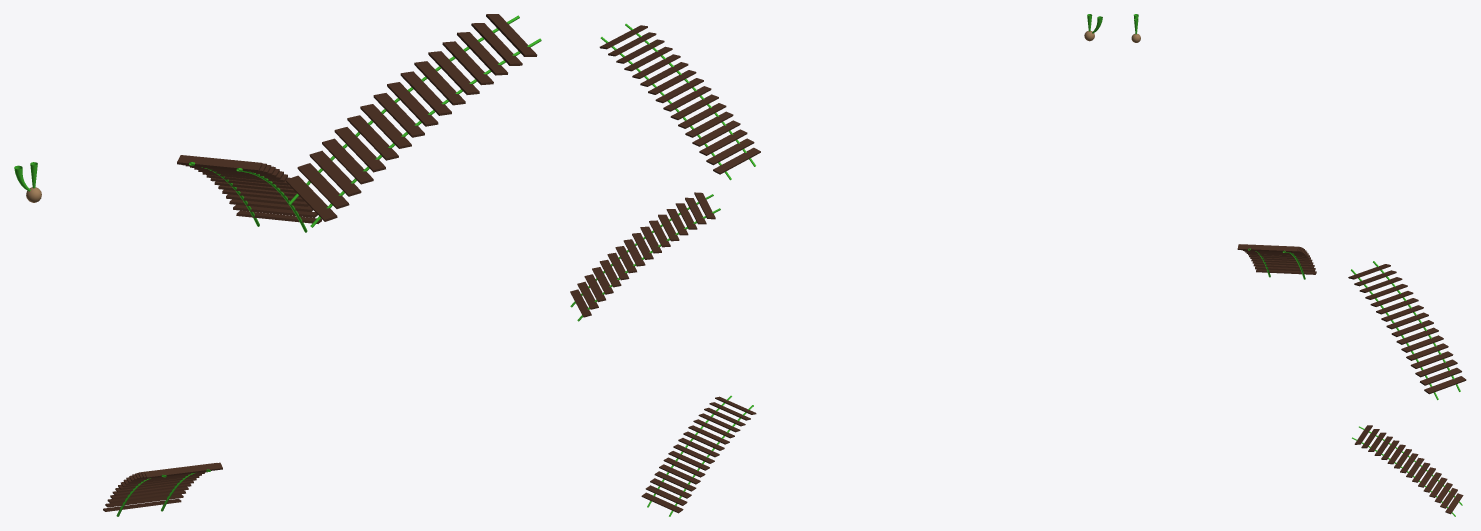
Rendered from LooseObjects.fbx.
The picture shows the model from 3 angles, left to right: view 1: azimuth 30°, elevation 25°; view 2: azimuth 150°, elevation 25°; view 3: azimuth 270°, elevation 25°; orthographic projection. The views are drawn at different scales.
Parts seen in each view (by area): view 1: Bridge_LP006, Bridge_LP005, Bridge_LP010; view 2: Bridge_LP006, Bridge_LP005, Bridge_LP010; view 3: Bridge_LP005, Bridge_LP010, Bridge_LP006.
Part boxes in pixels (x1,y1,x2,y2): Bridge_LP006: [285, 14, 541, 227]; Bridge_LP005: [177, 155, 321, 232]; Bridge_LP010: [103, 462, 222, 516]; Bridge_LP006: [599, 23, 760, 180]; Bridge_LP005: [570, 192, 720, 321]; Bridge_LP010: [641, 395, 756, 516]; Bridge_LP005: [1348, 261, 1466, 400]; Bridge_LP010: [1352, 425, 1463, 516]; Bridge_LP006: [1237, 244, 1316, 279].
Size of the model in its own units: 2643 by 2043 by 2571.
